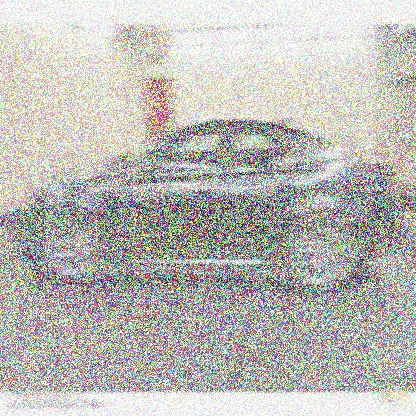Vehicle: (21, 118, 402, 292)
